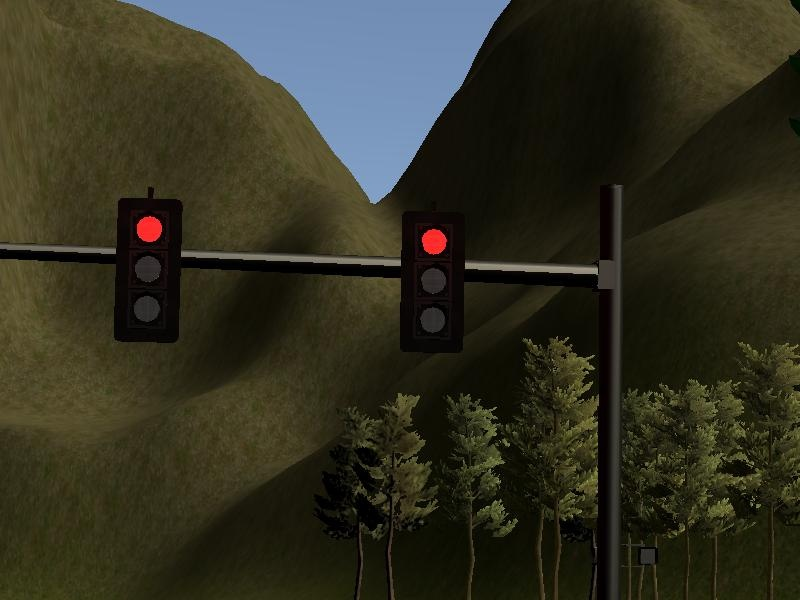red: (113, 195, 185, 348), (397, 207, 468, 357)
